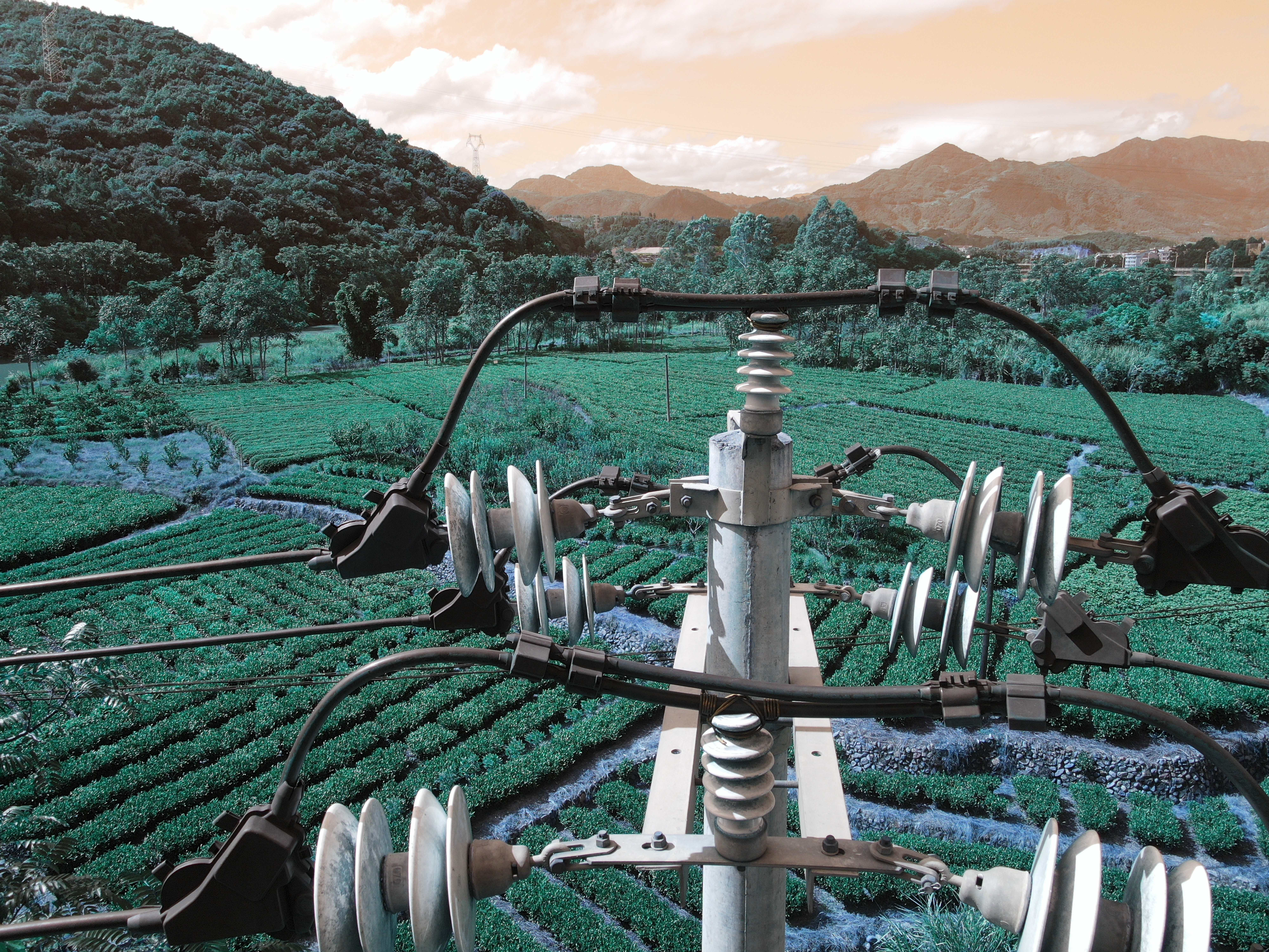severe_soiling_no_discharge_whole: (300, 775, 537, 950), (961, 815, 1216, 951), (440, 456, 603, 602), (508, 541, 627, 648), (698, 711, 779, 864)
